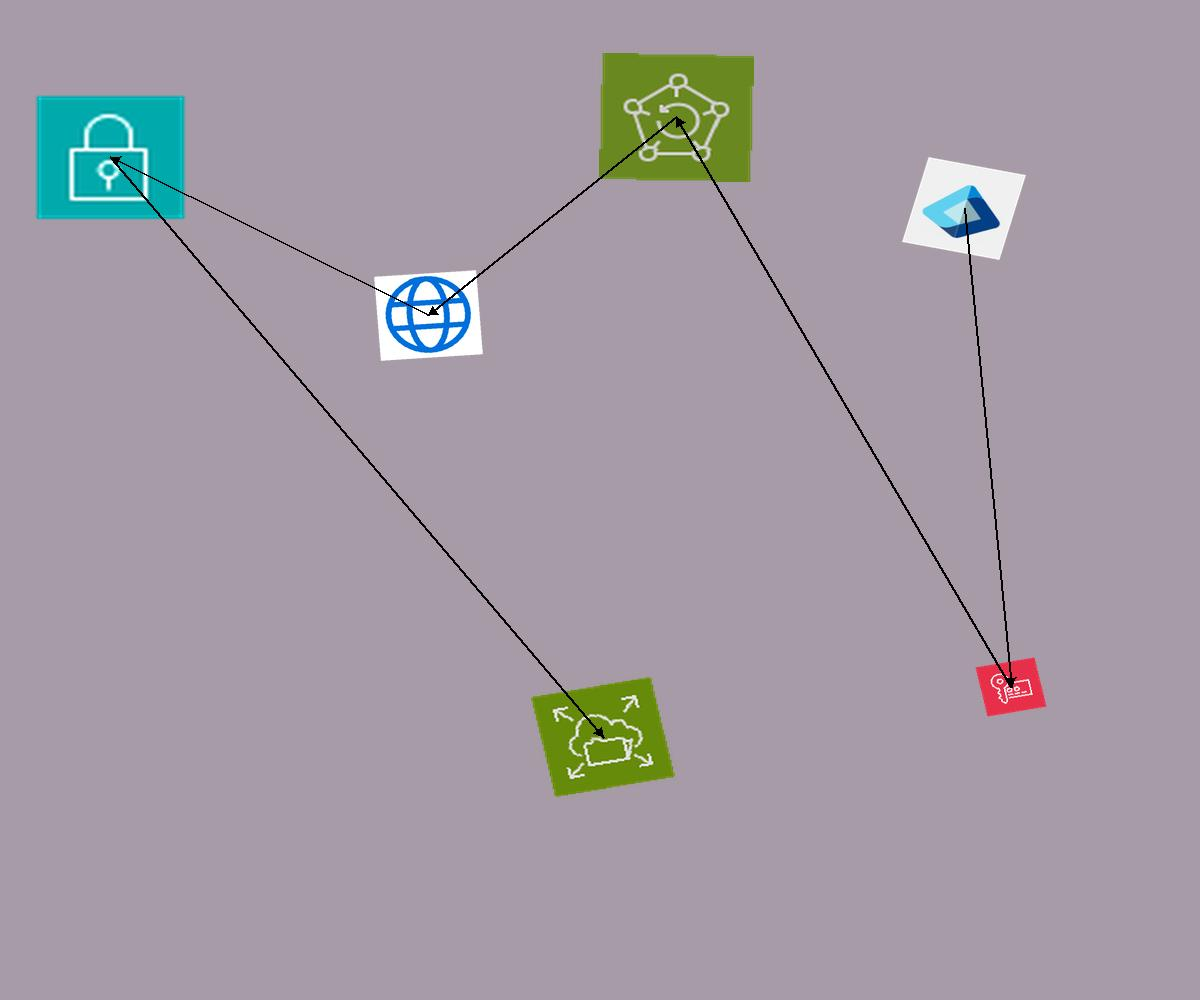AWS-Backup: (599, 53, 754, 182)
AWS-EFS: (530, 676, 676, 798)
AWS-Key-Management-Service: (975, 657, 1047, 717)
AWS-Private-subnet: (33, 93, 188, 222)
Azure_http: (374, 270, 483, 361)
Azure_microsoft_entra: (902, 157, 1026, 260)
